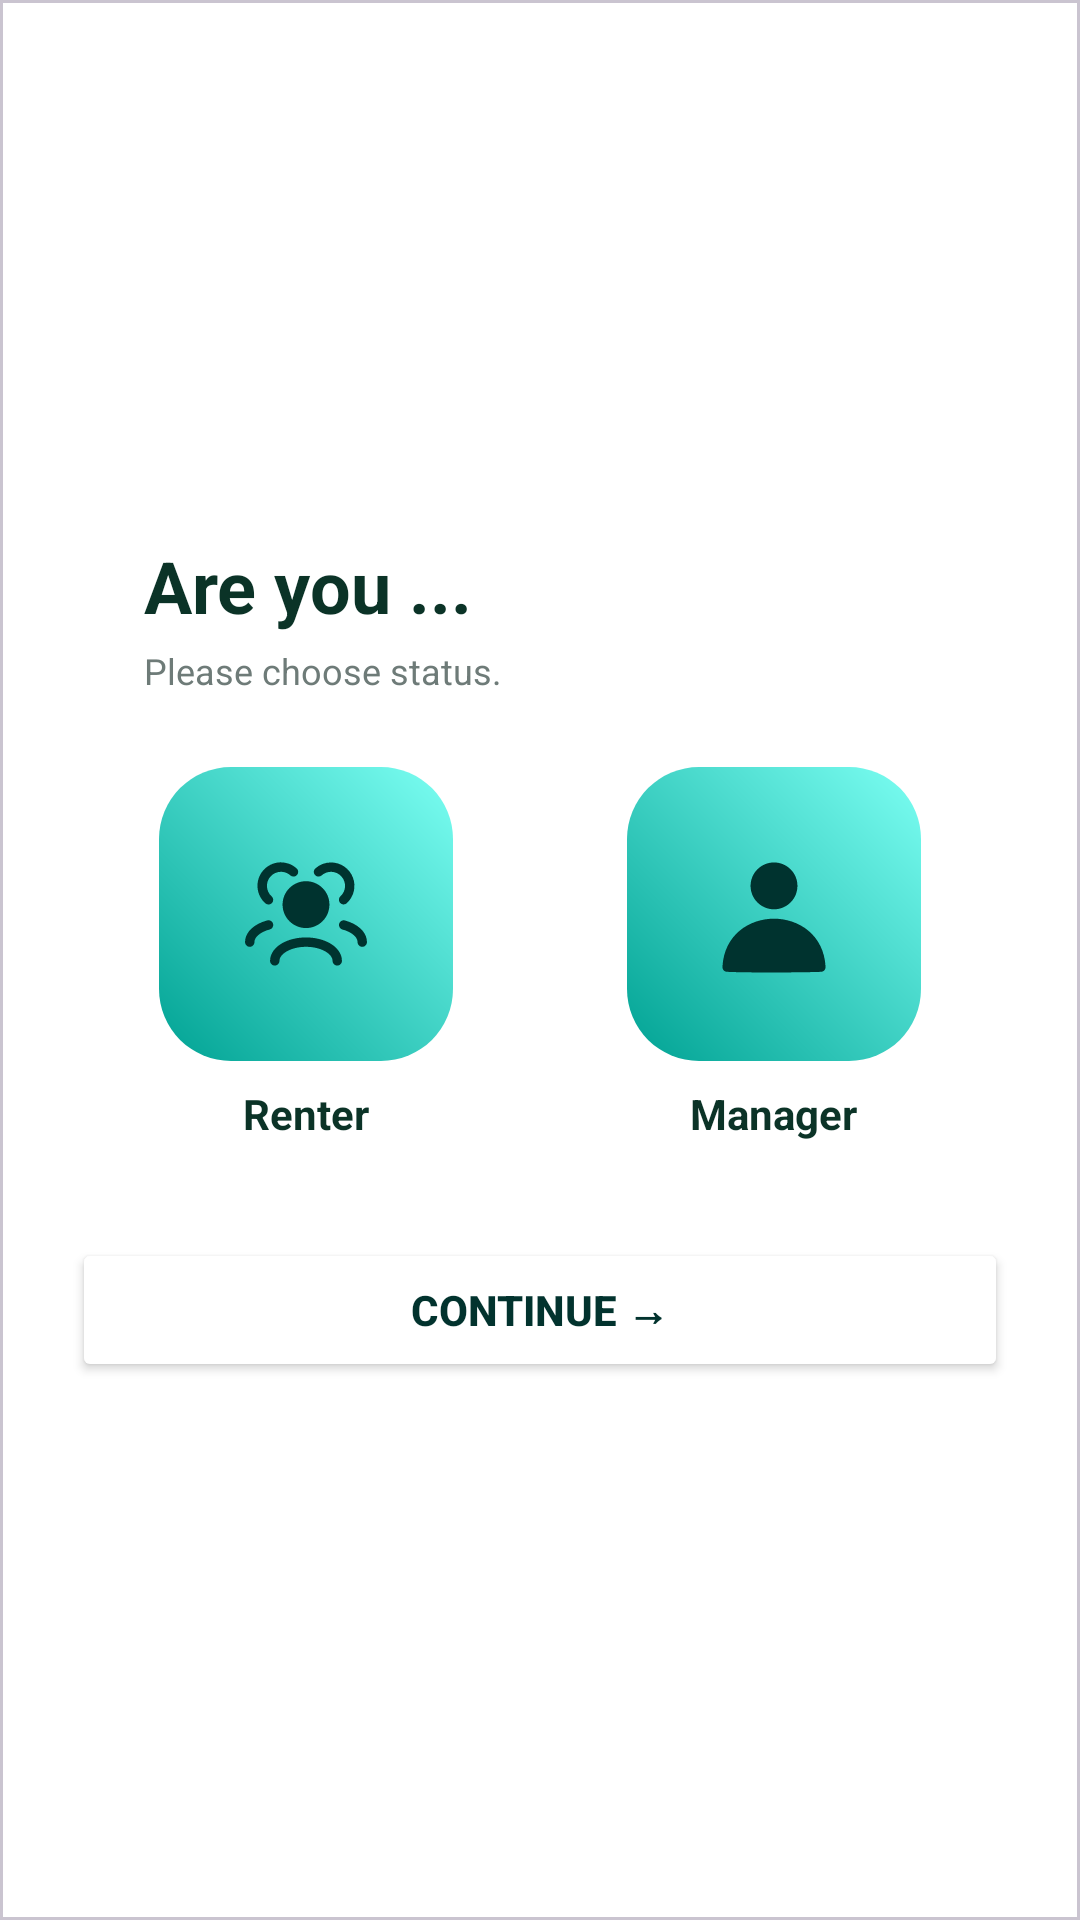

Named icons in this screenshot (1080×1920) and their centers, (x,y):
users group: (306,914)
